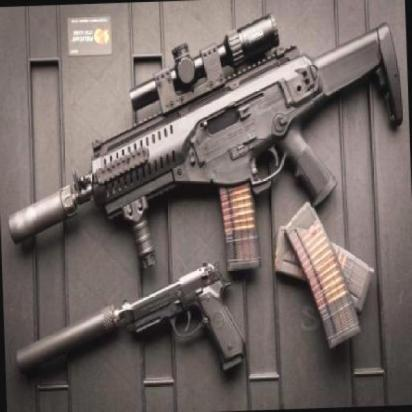Gun: (1, 1, 405, 314)
